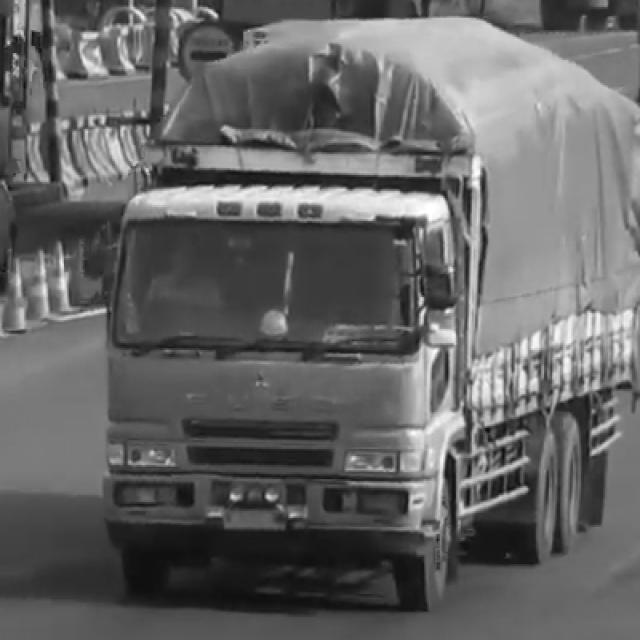Truck: (82, 18, 640, 590)
